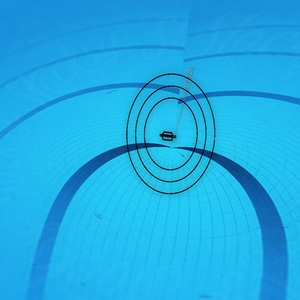circle: (124, 68, 218, 198)
submarine: (157, 129, 175, 144)
